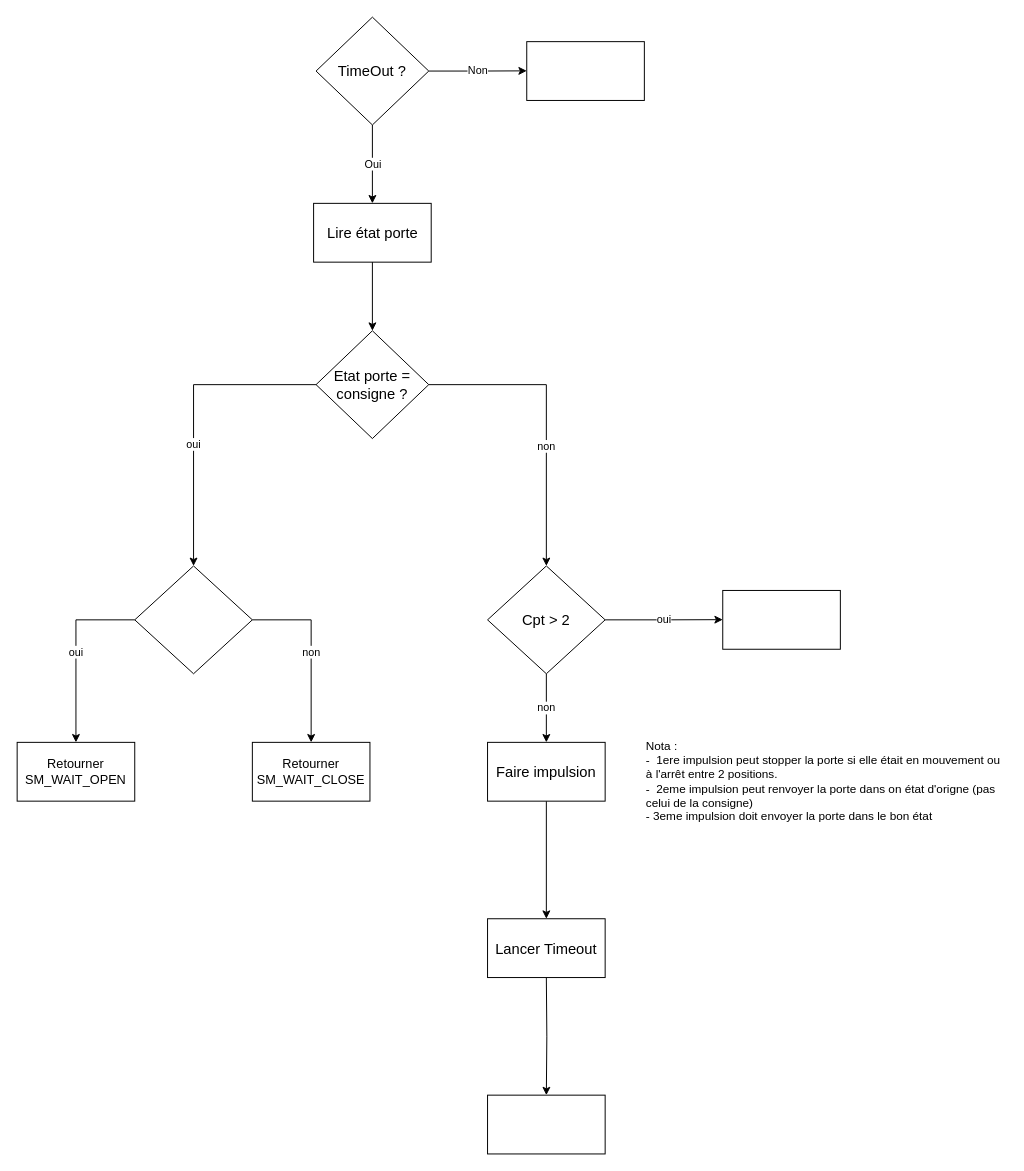
The diagram is 1024 pixels wide and 1171 high, and some of its shapes have lost their labels. Each missing label, with the centre of its shape:
"Etat = ouvert ?" belongs at (193,619).
"Incrémenter Cpt Impls" belongs at (546,1124).
"Retourner SM_ERROR" belongs at (781,619).
"Sortir" belongs at (585,70).
